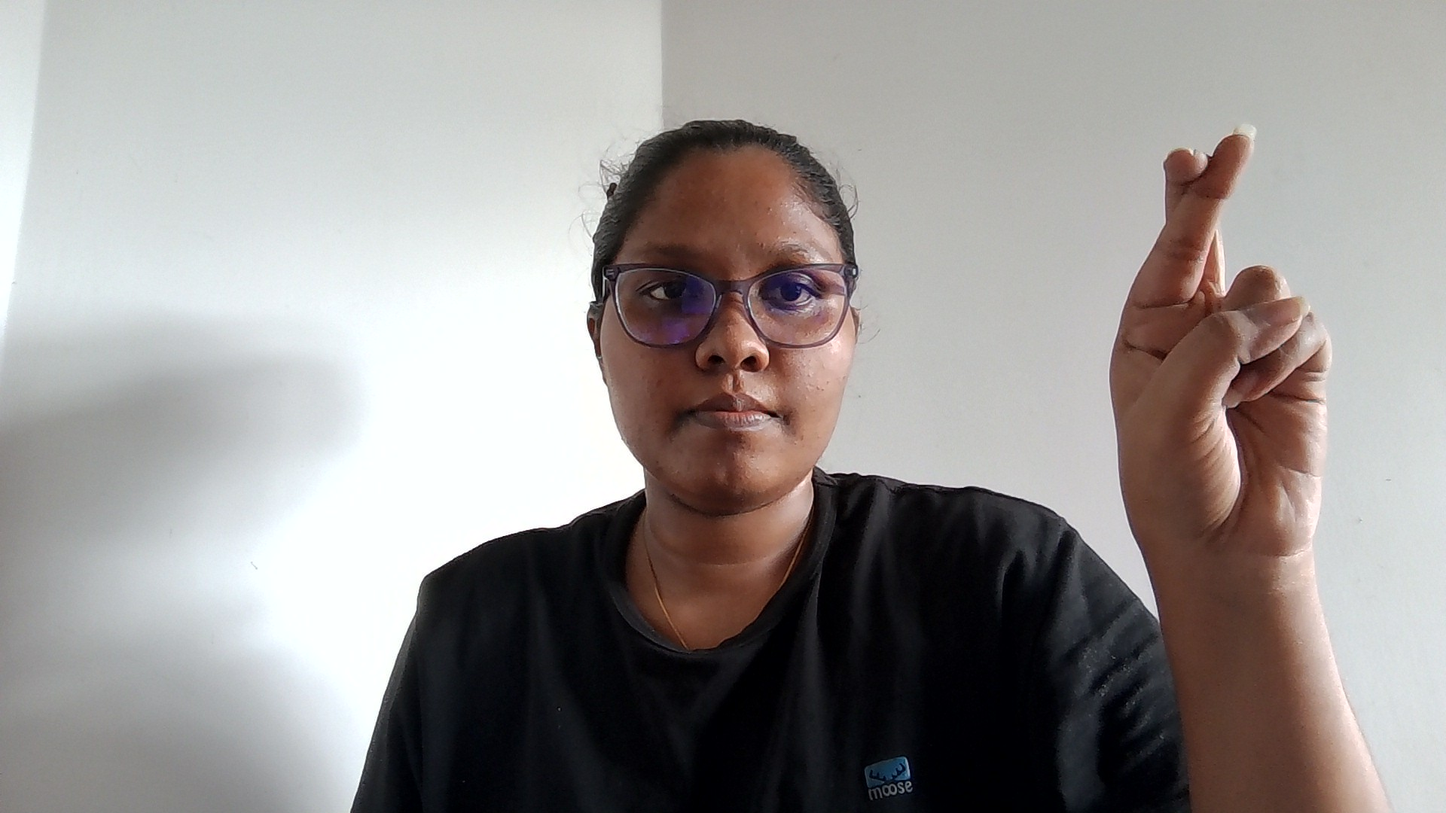Good_Luck: (1060, 81, 1376, 616)
